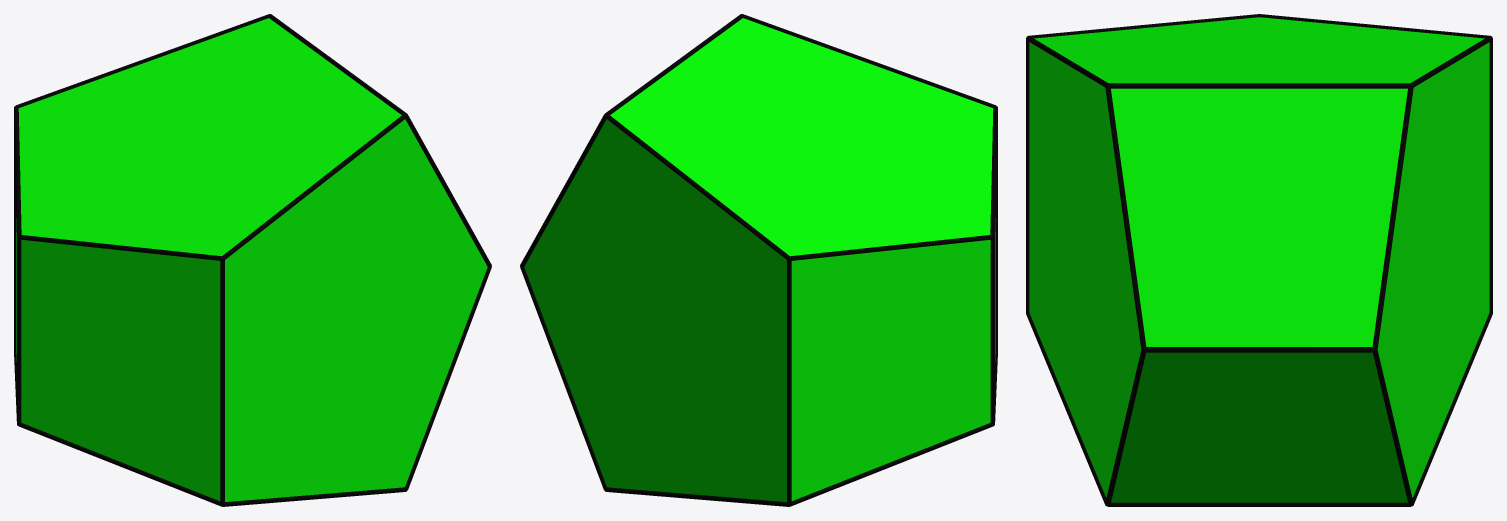
Rendered from quiz_107.dae.
3 views of the same model, side by side, from view 1: azimuth 30°, elevation 25°; view 2: azimuth 150°, elevation 25°; view 3: azimuth 270°, elevation 25° (orthographic). The views are drawn at different scales.
Parts seen in each view (by area): view 1: visgeom_0, geometry_edges0_0_quiz_107.off; view 2: visgeom_0, geometry_edges0_0_quiz_107.off; view 3: visgeom_0, geometry_edges0_0_quiz_107.off.
Boxes of the visible parts, left/top/right/bottom form: visgeom_0: left=16, top=18, right=487, bottom=501; geometry_edges0_0_quiz_107.off: left=14, top=14, right=491, bottom=506; visgeom_0: left=524, top=18, right=995, bottom=501; geometry_edges0_0_quiz_107.off: left=520, top=14, right=997, bottom=506; visgeom_0: left=1029, top=17, right=1489, bottom=502; geometry_edges0_0_quiz_107.off: left=1026, top=14, right=1492, bottom=506.
Size of the model in its own units: 2.02 by 1.73 by 1.73.
